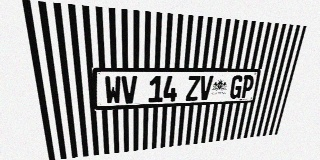1: (148, 76, 164, 103)
4: (163, 76, 178, 102)
G: (229, 75, 244, 99)
P: (240, 75, 255, 98)
V: (121, 76, 137, 104), (198, 76, 213, 100)
W: (104, 76, 121, 104)
Z: (185, 76, 201, 101)
